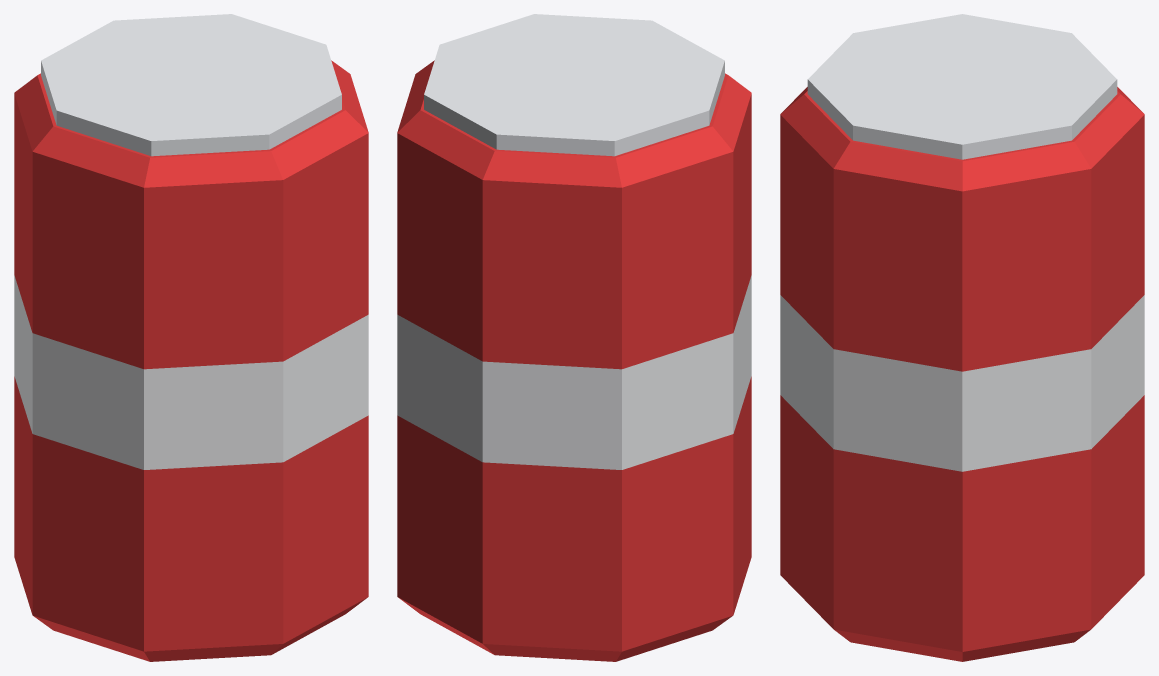
The model's file is SodaCan.fbx.
3 renders of one model, left to right at view 1: azimuth 30°, elevation 25°; view 2: azimuth 150°, elevation 25°; view 3: azimuth 270°, elevation 25°, orthographic.
Parts seen in each view (by area): view 1: SodaCan; view 2: SodaCan; view 3: SodaCan.
Part boxes in pixels (x1,y1,x2,y2): SodaCan: (14,14,368,661); SodaCan: (397,14,751,661); SodaCan: (780,14,1144,661).
Bounding box in the file's own units: 0.66 × 1.03 × 0.66.
1 material, 1 textured.
